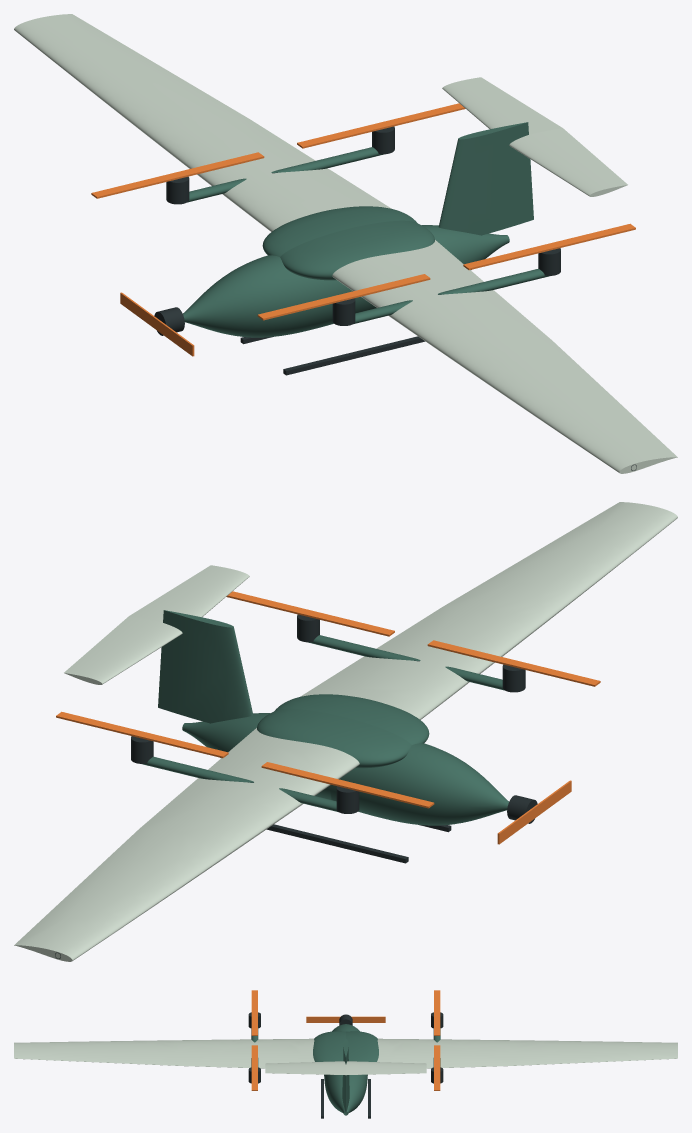
File: surface_tools-10-model.glb
3 views of the same model, one above another, from view 1: azimuth 30°, elevation 25°; view 2: azimuth 150°, elevation 25°; view 3: azimuth 270°, elevation 25° (orthographic). The views are drawn at different scales.
Visible parts, largest first — view 1: wing-1, wing1, fuselage, fin, root_fairing-1, tail-1, root_fairing1, tail1, boom_fairing-1, boom_fairing1, prop_1_200.0, prop_-1_200.0 (+4 smaller); view 2: wing1, wing-1, fuselage, fin, root_fairing1, tail1, root_fairing-1, tail-1, boom_fairing1, boom_fairing-1, prop_-1_200.0, prop_1_200.0 (+4 smaller); view 3: wing-1, wing1, fuselage, tail-1, tail1, root_fairing-1, root_fairing1, cruise_prop, fin, prop_-1_200.0, prop_-1_700.0, prop_1_200.0 (+1 smaller).
Part boxes in pixels (x1,y1,x2,y2): wing-1: (332, 240, 677, 473); wing1: (14, 14, 391, 231); fuselage: (183, 225, 509, 337); fin: (438, 122, 533, 235); root_fairing-1: (280, 220, 434, 280); tail-1: (509, 128, 627, 196); root_fairing1: (262, 206, 416, 256); tail1: (442, 77, 562, 134); boom_fairing-1: (354, 268, 549, 323); boom_fairing1: (187, 147, 383, 202); prop_1_200.0: (91, 152, 264, 198); prop_-1_200.0: (257, 274, 430, 320); wing1: (14, 728, 359, 961); wing-1: (300, 502, 677, 719); fuselage: (182, 713, 508, 825); fin: (158, 610, 253, 723); root_fairing1: (257, 708, 411, 768); tail1: (64, 616, 182, 684); root_fairing-1: (275, 694, 429, 744); tail-1: (129, 565, 249, 622); boom_fairing1: (142, 756, 337, 811); boom_fairing-1: (308, 635, 504, 690); prop_-1_200.0: (427, 640, 600, 686); prop_1_200.0: (261, 762, 434, 808); wing-1: (14, 1038, 314, 1068); wing1: (377, 1038, 677, 1068); fuselage: (324, 1024, 367, 1115); tail-1: (265, 1061, 345, 1075); tail1: (346, 1061, 426, 1075); root_fairing-1: (313, 1031, 345, 1061); root_fairing1: (346, 1031, 378, 1061); cruise_prop: (306, 1016, 385, 1022); fin: (342, 1039, 349, 1112); prop_-1_200.0: (251, 990, 257, 1035); prop_-1_700.0: (251, 1045, 257, 1090); prop_1_200.0: (434, 990, 440, 1035).
Size of the model in its own units: 989 by 400 by 2550.
